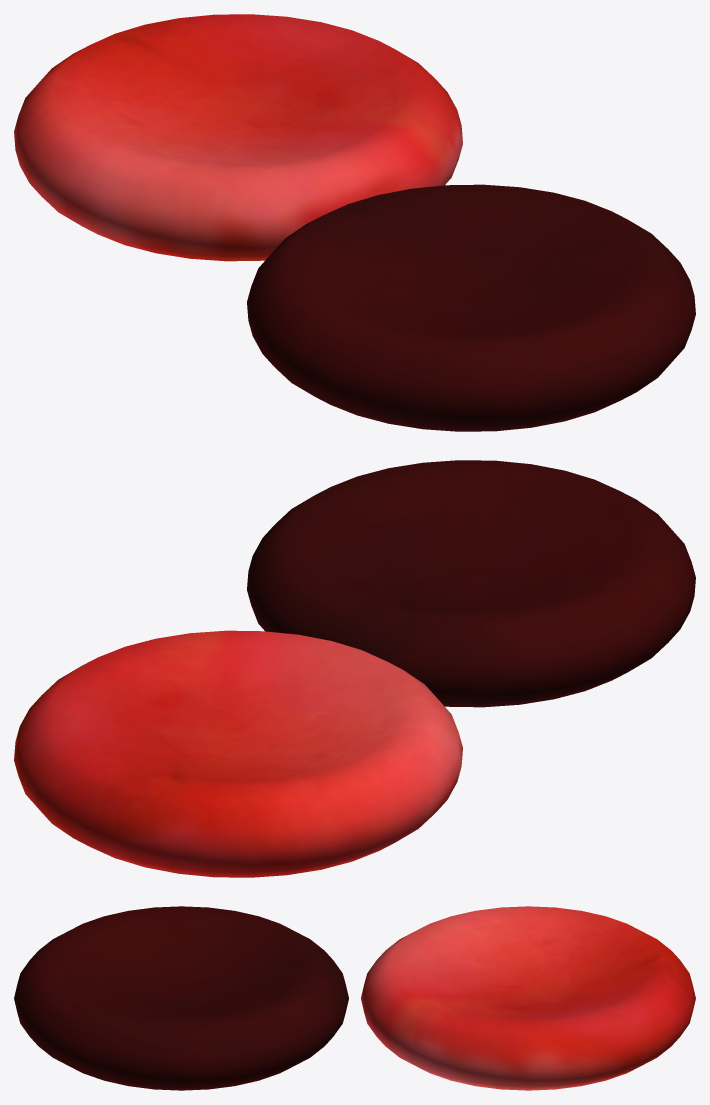
Rendered from RIG_Blood_Cells_V01.fbx.
3 renders of one model, top to bottom at view 1: azimuth 30°, elevation 25°; view 2: azimuth 150°, elevation 25°; view 3: azimuth 270°, elevation 25°, orthographic. The views are drawn at different scales.
Parts seen in each view (by area): view 1: RIG_Blood_Cells_V01:Sphere002, RIG_Blood_Cells_V01:Sphere001; view 2: RIG_Blood_Cells_V01:Sphere001, RIG_Blood_Cells_V01:Sphere002; view 3: RIG_Blood_Cells_V01:Sphere001, RIG_Blood_Cells_V01:Sphere002.
Boxes of the visible parts, x1,y1,x2,y2 form: RIG_Blood_Cells_V01:Sphere002: (247, 184, 695, 431); RIG_Blood_Cells_V01:Sphere001: (14, 14, 462, 261); RIG_Blood_Cells_V01:Sphere001: (14, 630, 462, 877); RIG_Blood_Cells_V01:Sphere002: (247, 460, 695, 707); RIG_Blood_Cells_V01:Sphere001: (361, 906, 695, 1090); RIG_Blood_Cells_V01:Sphere002: (14, 906, 348, 1090).
Bounding box in the file's own units: 3.86 × 0.8462 × 7.86.
Materials: 2 (2 with a texture image).
